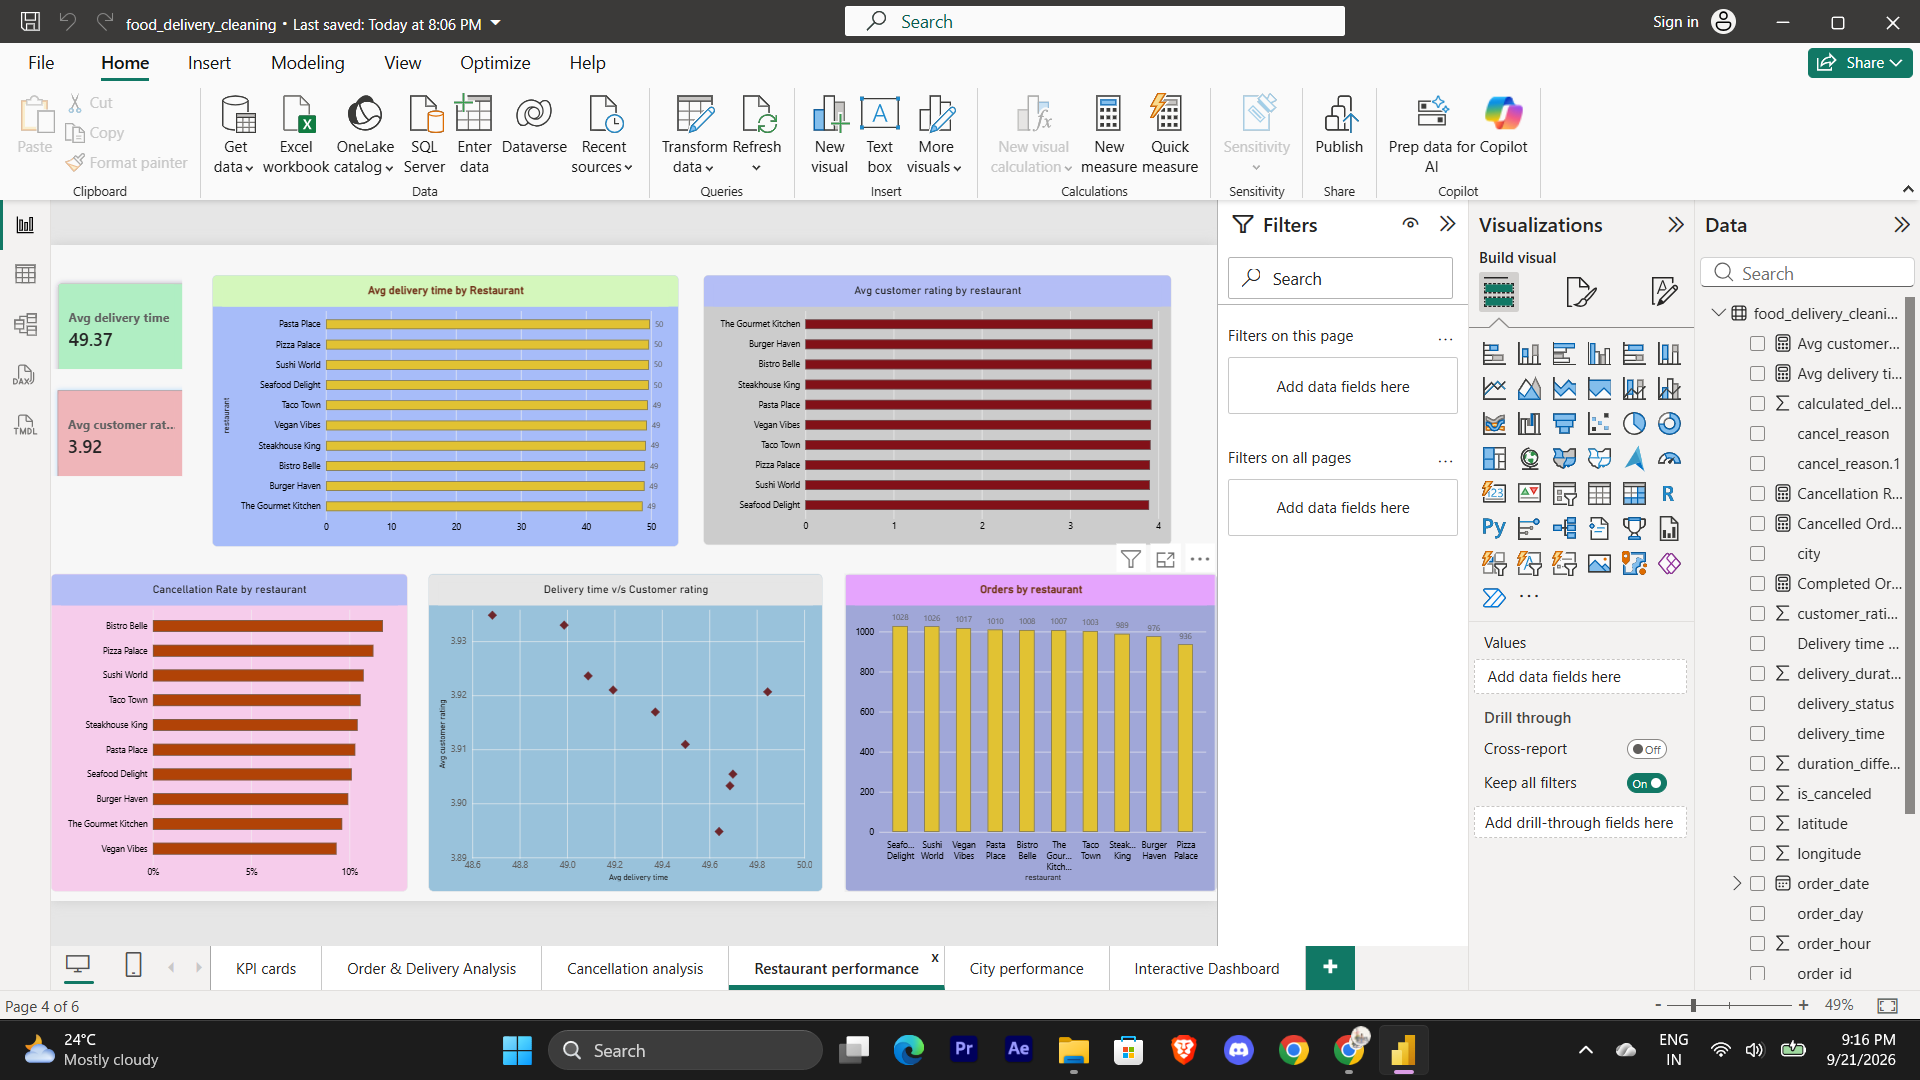

What the dashboard file says about the page in this screenshot:
{"tool":"powerbi","page":{"name":"Restaurant performance","canvas":[1920,1080],"ordinal":3},"visuals":[{"type":"cardVisual","fields":{"Data":["food_delivery_cleaning.Avg delivery time"]},"box":[0,51.3,216.7,153.8],"z":0},{"type":"cardVisual","fields":{"Data":["food_delivery_cleaning.Avg customer rating"]},"box":[0,227.7,216.7,152.6],"z":1000},{"type":"barChart","title":"Avg delivery time by Restaurant","fields":{"Category":["food_delivery_cleaning.restaurant"],"Y":["food_delivery_cleaning.Avg delivery time"]},"box":[266,48.9,768.1,446.8],"z":2000},{"type":"barChart","title":"Avg customer rating by restaurant","fields":{"Category":["food_delivery_cleaning.restaurant"],"Y":["food_delivery_cleaning.Avg customer rating"]},"box":[1074.5,48.9,770.2,444.7],"z":3000},{"type":"clusteredColumnChart","title":"Orders by restaurant","fields":{"Category":["food_delivery_cleaning.restaurant"],"Y":["food_delivery_cleaning.Total orders"]},"box":[1306.4,540.4,612.8,523.4],"z":4000},{"type":"clusteredBarChart","fields":{"Category":["food_delivery_cleaning.restaurant"],"Y":["food_delivery_cleaning.Cancellation Rate"]},"box":[0,540.4,587.2,523.4],"z":5000},{"type":"scatterChart","title":"Delivery time v/s Customer rating","fields":{"X":["food_delivery_cleaning.Avg delivery time"],"Y":["food_delivery_cleaning.Avg customer rating"],"Category":["food_delivery_cleaning.restaurant"]},"box":[621.3,540.4,648.9,523.4],"z":6000}]}

Visuals, with their boxes on the page's 1920x1080 design canvas (x1, y1, x2, y2). These are canvas units, not pixel positions in the 1920x1080 screenshot, which may show the page scaled, cropped or inside an application window:
cardVisual - food_delivery_cleaning.Avg delivery time: {"x1": 0, "y1": 51, "x2": 217, "y2": 205}
cardVisual - food_delivery_cleaning.Avg customer rating: {"x1": 0, "y1": 228, "x2": 217, "y2": 380}
"Avg delivery time by Restaurant" barChart: {"x1": 266, "y1": 49, "x2": 1034, "y2": 496}
"Avg customer rating by restaurant" barChart: {"x1": 1074, "y1": 49, "x2": 1845, "y2": 494}
"Orders by restaurant" clusteredColumnChart: {"x1": 1306, "y1": 540, "x2": 1919, "y2": 1064}
clusteredBarChart - food_delivery_cleaning.restaurant x food_delivery_cleaning.Cancellation Rate: {"x1": 0, "y1": 540, "x2": 587, "y2": 1064}
"Delivery time v/s Customer rating" scatterChart: {"x1": 621, "y1": 540, "x2": 1270, "y2": 1064}
